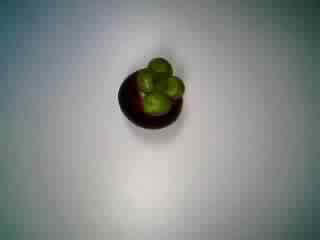mangosteen: (113, 52, 186, 132)
